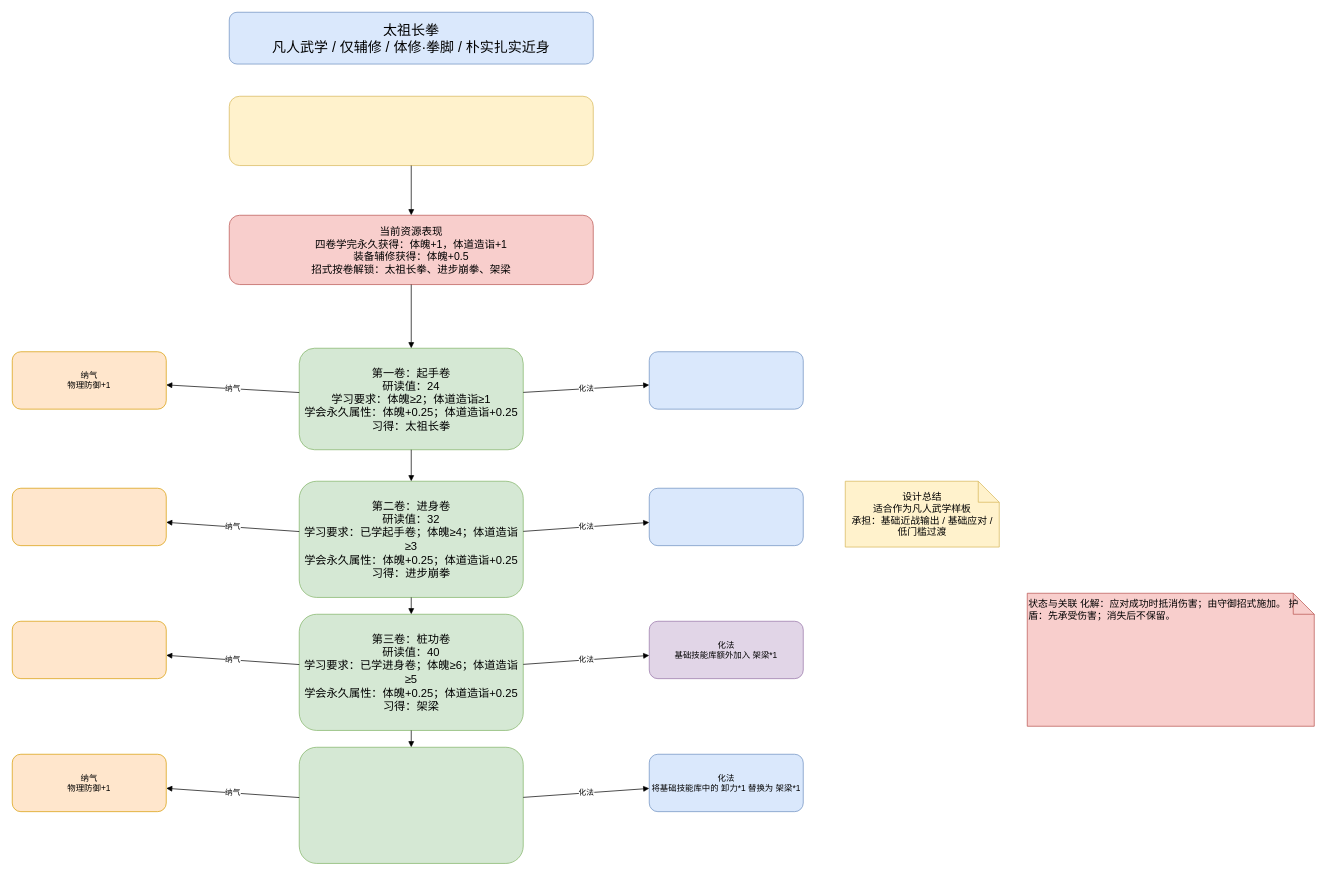
Some shapes in this 1327 by 876 pixel diagram are drawn without their labels. The shapes that lost their labels are listed below. From the top down, each one's centre as x and y in pixels, then its label:
At point (411, 131): "秘籍总览 只能辅修，不能作为主修功法 凡人也可学习，不要求灵根与修仙境界 四卷依次学习，每卷研读值满后学会该卷".
At point (726, 380): "化法 基础技能库额外加入 太祖长拳*1".
At point (89, 517): "纳气 精准+1".
At point (726, 517): "化法 基础技能库额外加入 进步崩拳*1".
At point (89, 650): "纳气 物防+1；暴抗+2".
At point (411, 805): "第四卷：架势卷 研读值：48 学习要求：已学桩功卷；体魄≥8；体道造诣≥7 学会永久属性：体魄+0.25；体道造诣+0.25 习得：无新增招式".
